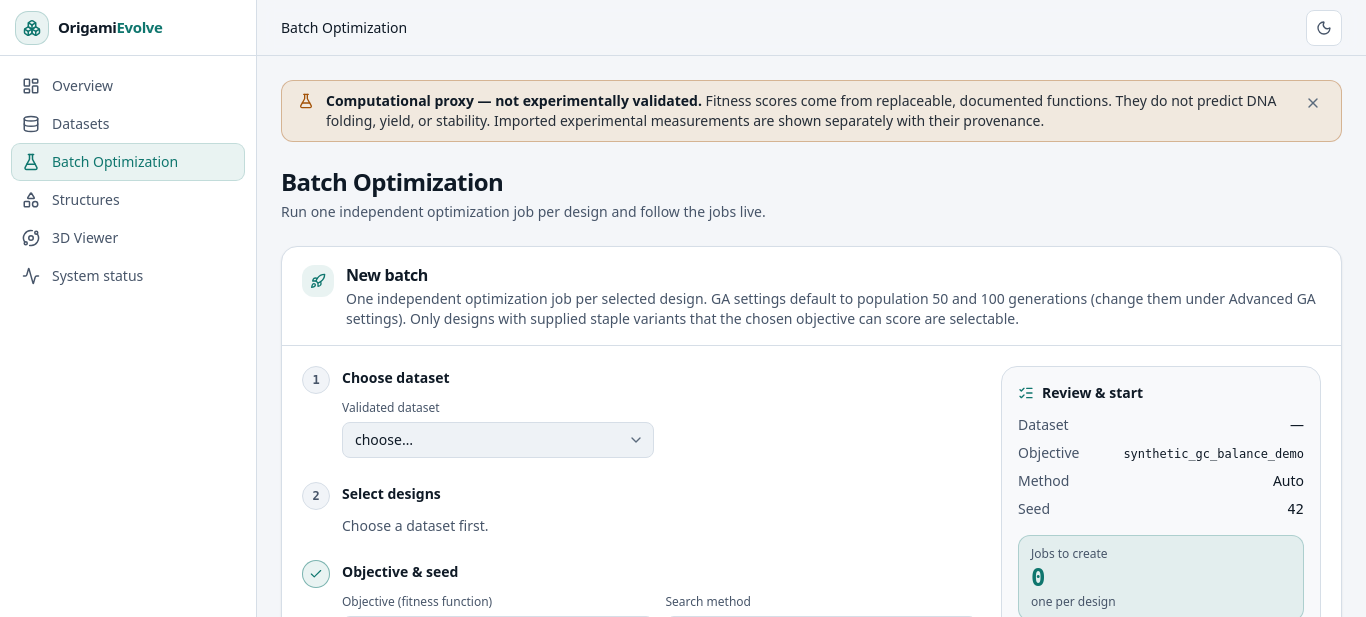
Test: batch creation › disables designs the objective cannot score, with the reason, and explains the demo objective
Select "Batch A (2 designs)" in the dropdown labelled "Validated dataset" at (498, 440), box [342,422,654,458]
(page scrolled)
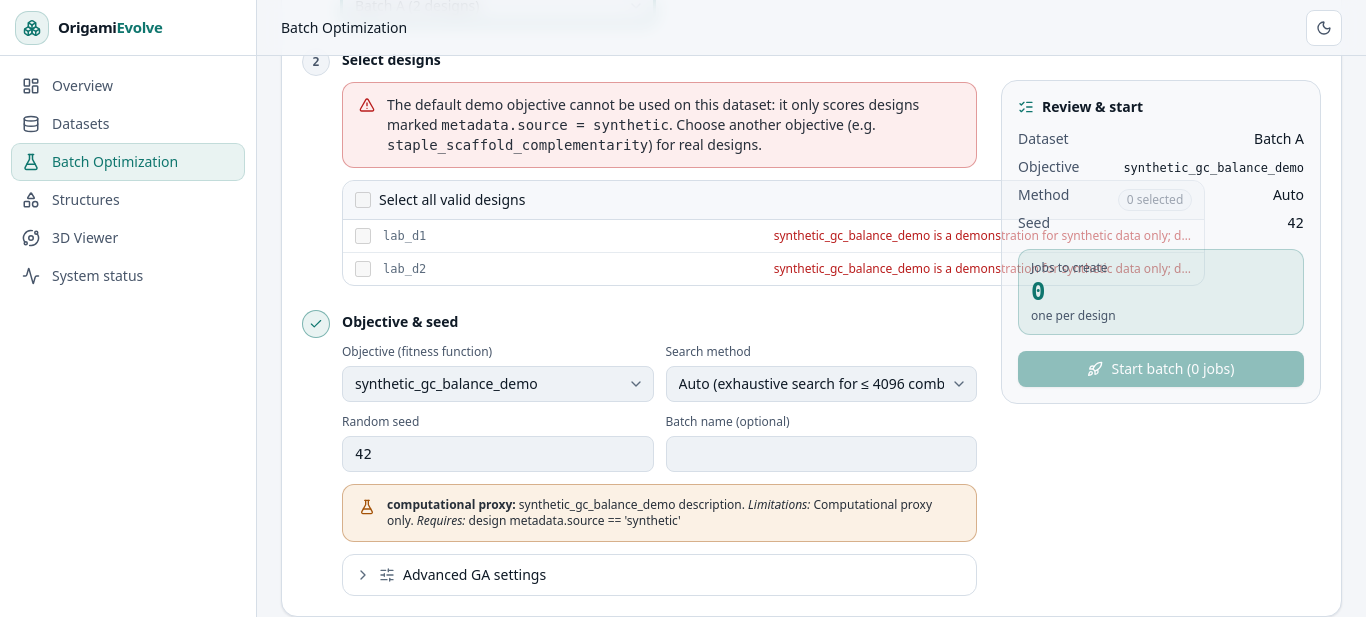
Now the 2nd checkbox is disabled, box [355,228,371,244]
Now the checkbox labelled "Select all valid designs" is disabled, box [355,192,371,208]
Now the text "default demo objective cannot be used on this dataset" is shown, box [387,95,960,155]
// An objective that can score them enables the designs and removes the notice.
Select "staple_scaffold_complementarity" in the dropdown labelled "Objective (fitness function)" at (498, 384), box [342,366,654,402]
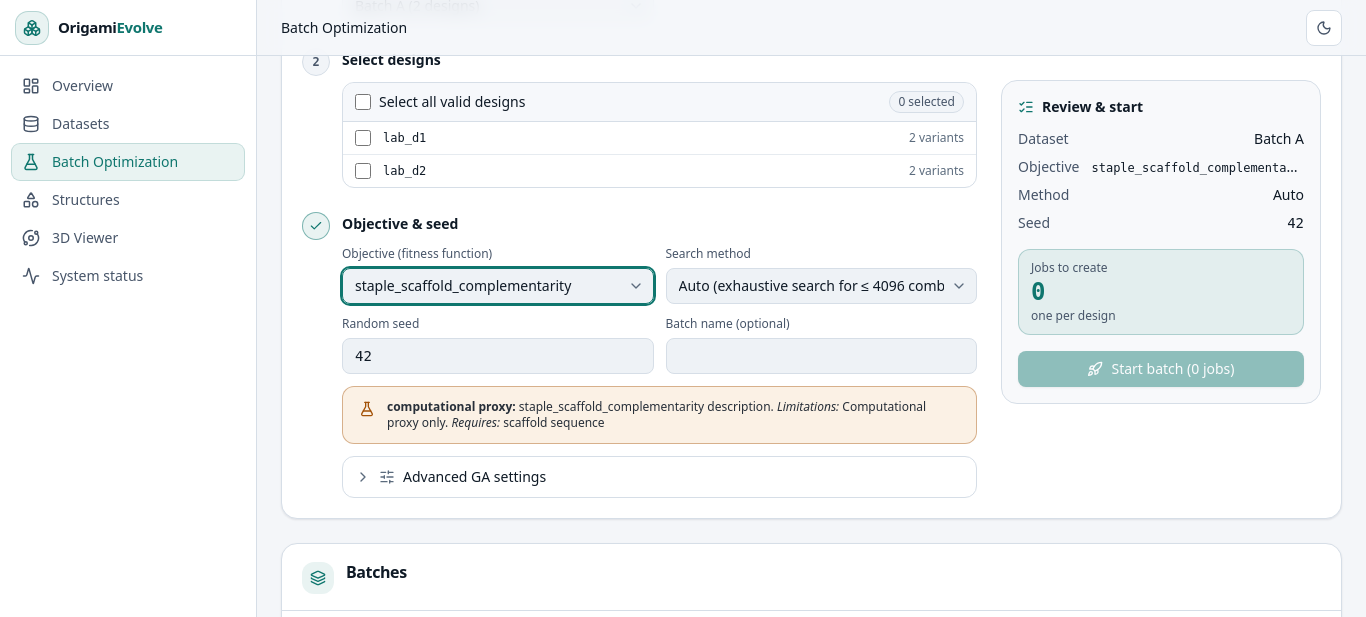
Now the checkbox labelled "lab_d1 2 variants" is enabled, box [355,130,371,146]
Now the text "2 variants" in the row of "lab_d1" is shown, box [909,129,964,146]
Now the text "default demo objective cannot be used" is gone
